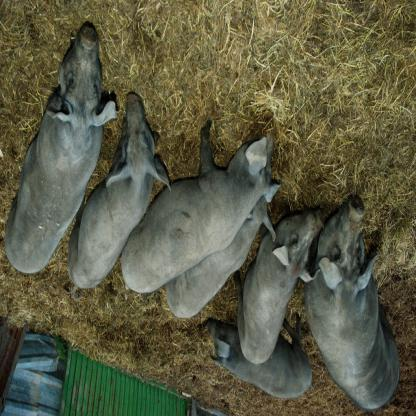boar: (4, 24, 399, 413)
